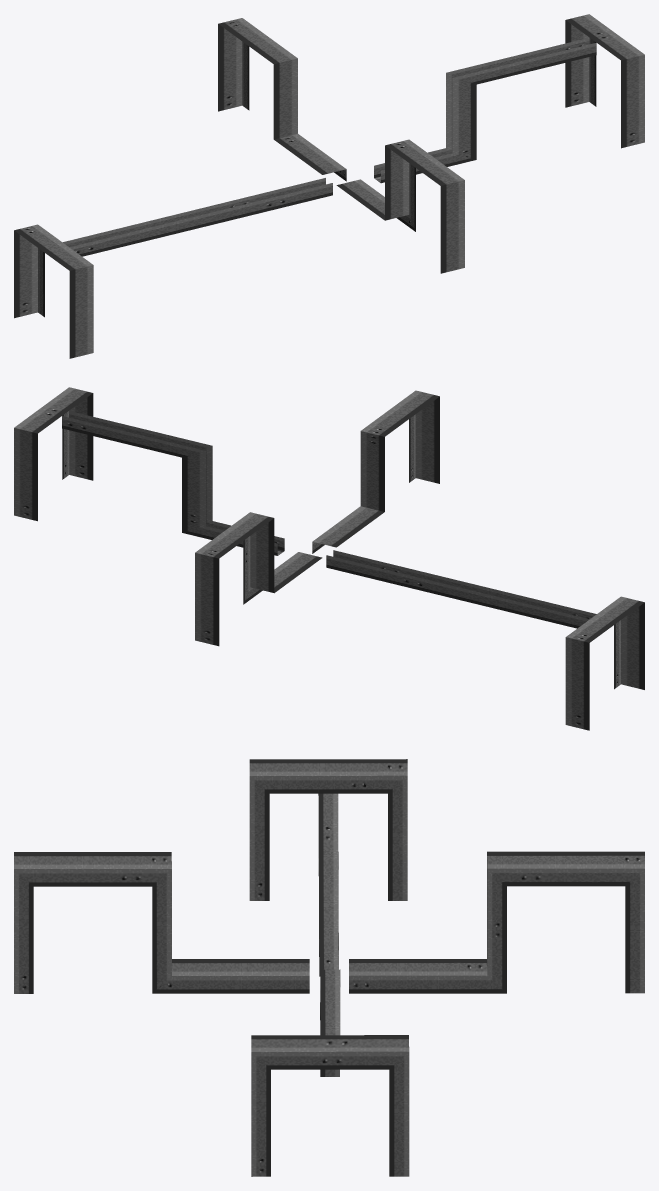
The model's file is primary_023.glb.
3 renders of one model, top to bottom at view 1: azimuth 30°, elevation 25°; view 2: azimuth 150°, elevation 25°; view 3: azimuth 270°, elevation 25°, orthographic. The views are drawn at different scales.
Visible parts, largest first — view 1: Object; view 2: Object; view 3: Object.
Boxes of the visible parts, x1,y1,x2,y2 form: Object: (14, 14, 644, 358); Object: (14, 387, 644, 730); Object: (14, 759, 644, 1176).
Size of the model in its own units: 4.35 by 1.18 by 2.9.
Materials: 2 (2 with a texture image).
